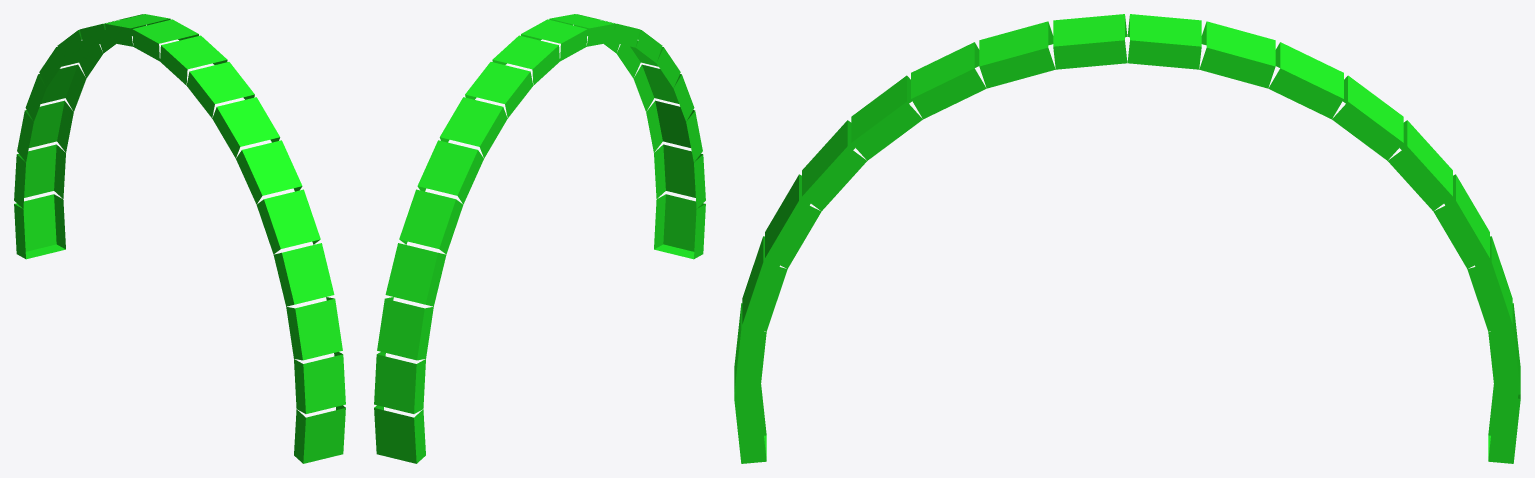
Rendered from Points.fbx.
The picture shows the model from 3 angles, left to right: view 1: azimuth 30°, elevation 25°; view 2: azimuth 150°, elevation 25°; view 3: azimuth 270°, elevation 25°; orthographic projection. The views are drawn at different scales.
Visible parts, largest first — view 1: Cylinder; view 2: Cylinder; view 3: Cylinder.
Boxes of the visible parts, x1=… form: Cylinder: x1=14, y1=14, x2=345, y2=463; Cylinder: x1=374, y1=14, x2=705, y2=463; Cylinder: x1=734, y1=14, x2=1520, y2=463.
Bounding box in the file's own units: 1539 × 122 × 915.
